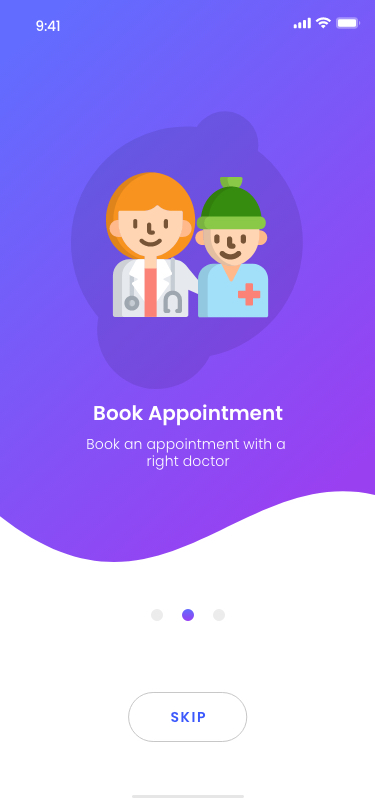Image: (106, 172, 269, 318)
PageIndicator: (151, 608, 226, 622)
Text: (87, 438, 286, 471), (95, 403, 284, 426)
TextButton: (128, 692, 248, 742)
UpperTaskBar: (36, 17, 361, 33)
